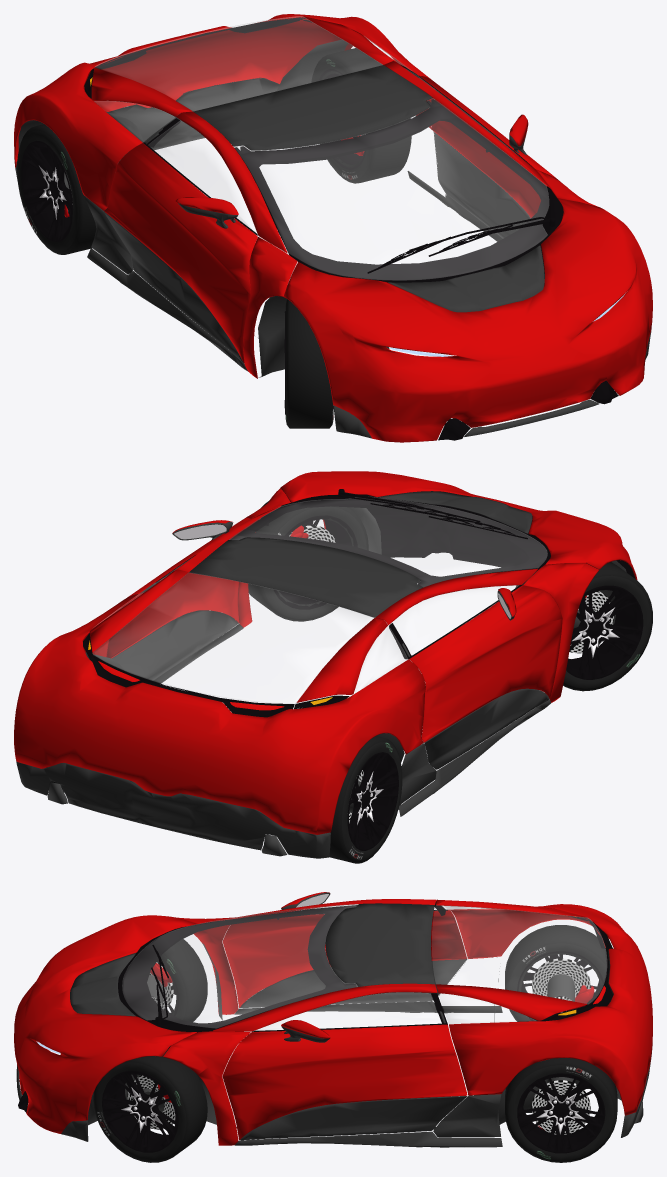
File: car.glb
3 renders of one model, top to bottom at view 1: azimuth 30°, elevation 25°; view 2: azimuth 150°, elevation 25°; view 3: azimuth 270°, elevation 25°, orthographic. The views are drawn at different scales.
Parts seen in each view (by area): view 1: BodyHood, BodyWindshield, BodyRearPanelsColor1, BodyRearwindow, BodyDoorRColor1, BodyRoofPanel, BodyWindshieldGasket, BodyPanelsColor2, BodyPillars, BodyHoodTopgrill, WheelFrontR, BodyDoorLColor2 (+12 smaller); view 2: BodyRearPanelsColor1, BodyRearwindow, BodyWindshield, BodyPanelsColor2, BodyDoorRColor1, BodyRoofPanel, BodyHood, BodyPillars, BodyHoodInterior01, BodyWindshieldGasket, WheelFrontRRim, BodyDoorLColor1 (+13 smaller); view 3: BodyRearPanelsColor1, BodyWindshield, BodyDoorLColor1, BodyHood, BodyRearwindow, BodyPillars, BodyRoofPanel, BodyPanelsColor2, BodyDoorRColor1, BodyWindshieldGasket, BodyDoorLColor2, WheelFrontL (+18 smaller).
Boxes of the visible parts, <box> form: BodyHood: <box>283,198,652,442</box>; BodyWindshield: <box>234,98,548,280</box>; BodyRearPanelsColor1: <box>14,14,435,210</box>; BodyRearwindow: <box>95,16,382,110</box>; BodyDoorRColor1: <box>104,143,257,363</box>; BodyRoofPanel: <box>193,65,432,150</box>; BodyWindshieldGasket: <box>234,99,563,282</box>; BodyPanelsColor2: <box>15,77,651,438</box>; BodyPillars: <box>176,61,599,378</box>; BodyHoodTopgrill: <box>388,245,544,312</box>; WheelFrontR: <box>285,299,333,428</box>; BodyDoorLColor2: <box>434,132,530,238</box>; BodyRearPanelsColor1: <box>14,569,425,834</box>; BodyRearwindow: <box>92,573,373,703</box>; BodyWindshield: <box>229,497,547,586</box>; BodyPanelsColor2: <box>15,624,550,858</box>; BodyDoorRColor1: <box>409,585,562,742</box>; BodyRoofPanel: <box>189,537,422,617</box>; BodyHood: <box>278,471,637,579</box>; BodyPillars: <box>173,489,598,702</box>; BodyHoodInterior01: <box>281,489,635,578</box>; BodyWindshieldGasket: <box>230,496,550,587</box>; WheelFrontRRim: <box>566,585,643,679</box>; BodyDoorLColor1: <box>106,517,250,658</box>; BodyRearPanelsColor1: <box>436,899,652,1115</box>; BodyWindshield: <box>122,904,357,1028</box>; BodyDoorLColor1: <box>222,1024,467,1139</box>; BodyHood: <box>14,915,196,1133</box>; BodyRearwindow: <box>432,905,606,1003</box>; BodyPillars: <box>163,899,437,1145</box>; BodyRoofPanel: <box>326,903,434,986</box>; BodyPanelsColor2: <box>16,957,651,1147</box>; BodyDoorRColor1: <box>222,909,467,1007</box>; BodyWindshieldGasket: <box>118,905,357,1032</box>; BodyDoorLColor2: <box>240,1096,467,1140</box>; WheelFrontL: <box>93,1050,207,1162</box>.
Size of the model in its own units: 2.54 by 1.15 by 4.36.
15 materials, 4 textured.
